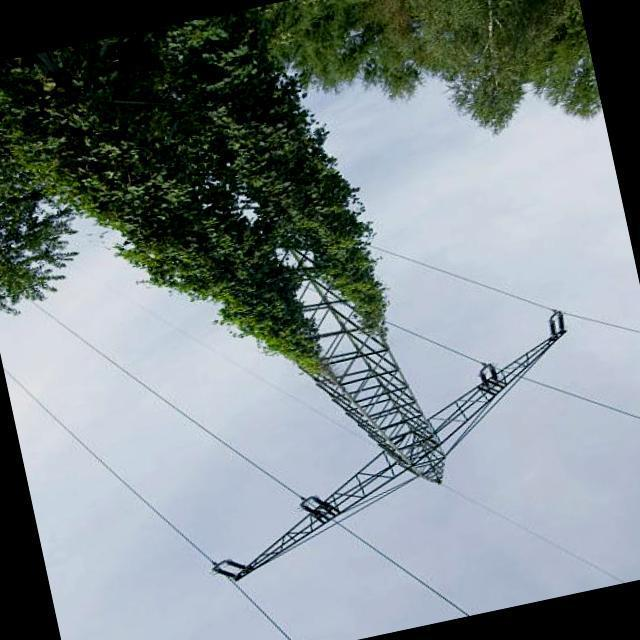critical vegetation: (38, 0, 603, 609)
